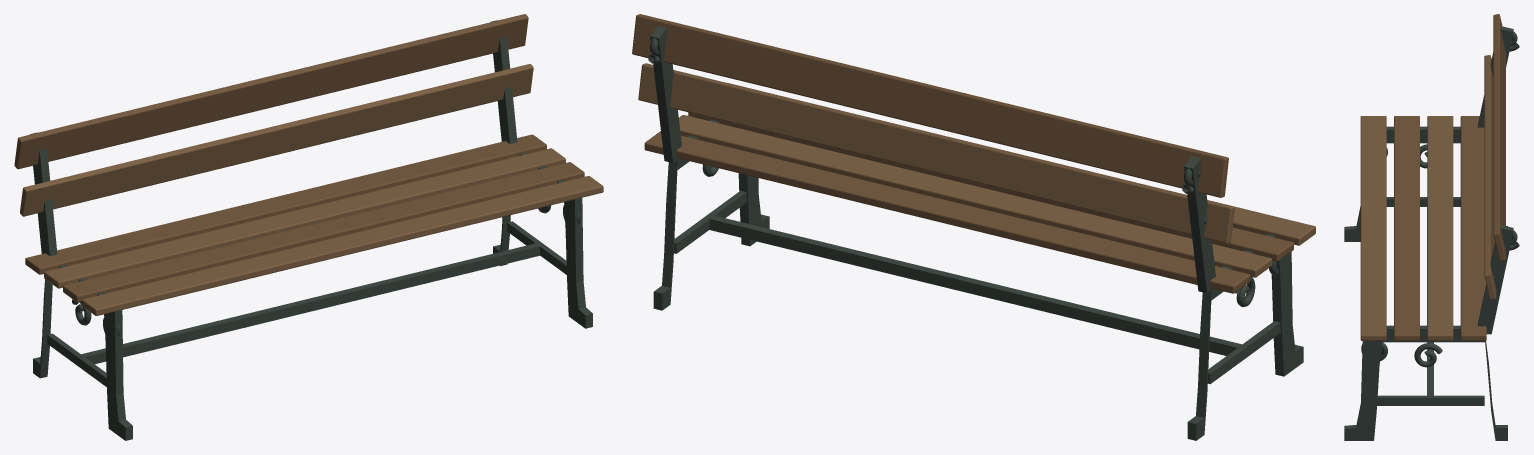
The model's file is park-bench.glb.
The picture shows the model from 3 angles, left to right: view 1: azimuth 30°, elevation 25°; view 2: azimuth 150°, elevation 25°; view 3: azimuth 270°, elevation 25°; orthographic projection. The views are drawn at different scales.
Parts seen in each view (by area): view 1: BackSlat_upper, BackSlat_lower, SeatSlat_0, SeatSlat_1, SeatSlat_2, SeatSlat_3, LongStretcher, EndFrame_L, EndFrame_R, BackPost_L, BackPost_R, SideStretcher_L (+1 smaller); view 2: BackSlat_upper, BackSlat_lower, SeatSlat_3, SeatSlat_2, LongStretcher, EndFrame_L, SeatSlat_1, EndFrame_R, SeatSlat_0, BackPost_R, BackPost_L, SideStretcher_L (+1 smaller); view 3: SeatSlat_0, SeatSlat_2, SeatSlat_1, SeatSlat_3, EndFrame_R, BackSlat_upper, BackSlat_lower, BackPost_R, SideStretcher_R, EndFrame_L, BackPost_L, SeatScroll_R (+2 smaller).
Boxes of the visible parts, x1=… form: BackSlat_upper: x1=14, y1=14, x2=528, y2=169; BackSlat_lower: x1=20, y1=64, x2=533, y2=216; SeatSlat_0: x1=81, y1=176, x2=603, y2=315; SeatSlat_1: x1=63, y1=162, x2=584, y2=302; SeatSlat_2: x1=44, y1=148, x2=565, y2=288; SeatSlat_3: x1=25, y1=134, x2=546, y2=274; LongStretcher: x1=79, y1=242, x2=542, y2=364; EndFrame_L: x1=33, y1=264, x2=132, y2=440; EndFrame_R: x1=493, y1=152, x2=592, y2=328; BackPost_L: x1=30, y1=132, x2=57, y2=256; BackPost_R: x1=490, y1=20, x2=517, y2=143; SideStretcher_L: x1=47, y1=333, x2=106, y2=386; BackSlat_upper: x1=632, y1=14, x2=1228, y2=197; BackSlat_lower: x1=638, y1=63, x2=1234, y2=243; SeatSlat_3: x1=644, y1=131, x2=1250, y2=293; SeatSlat_2: x1=679, y1=115, x2=1272, y2=277; LongStretcher: x1=706, y1=215, x2=1244, y2=355; EndFrame_L: x1=1187, y1=234, x2=1303, y2=440; SeatSlat_1: x1=688, y1=112, x2=1293, y2=261; EndFrame_R: x1=653, y1=119, x2=769, y2=310; SeatSlat_0: x1=728, y1=83, x2=1315, y2=245; BackPost_R: x1=650, y1=26, x2=681, y2=162; BackPost_L: x1=1184, y1=156, x2=1215, y2=293; SideStretcher_L: x1=1208, y1=321, x2=1280, y2=384; SeatSlat_0: x1=1360, y1=116, x2=1386, y2=340; SeatSlat_2: x1=1427, y1=116, x2=1453, y2=340; SeatSlat_1: x1=1394, y1=116, x2=1419, y2=340; SeatSlat_3: x1=1460, y1=116, x2=1486, y2=340; EndFrame_R: x1=1344, y1=325, x2=1507, y2=440; BackSlat_upper: x1=1493, y1=14, x2=1505, y2=261; BackSlat_lower: x1=1484, y1=55, x2=1496, y2=299; BackPost_R: x1=1478, y1=225, x2=1513, y2=334; SideStretcher_R: x1=1377, y1=395, x2=1484, y2=405; EndFrame_L: x1=1344, y1=126, x2=1507, y2=241; BackPost_L: x1=1478, y1=26, x2=1513, y2=127; SeatScroll_R: x1=1414, y1=343, x2=1442, y2=367.
Size of what is drawn, in the model's own units: 1.9 by 0.8729 by 0.6416.
